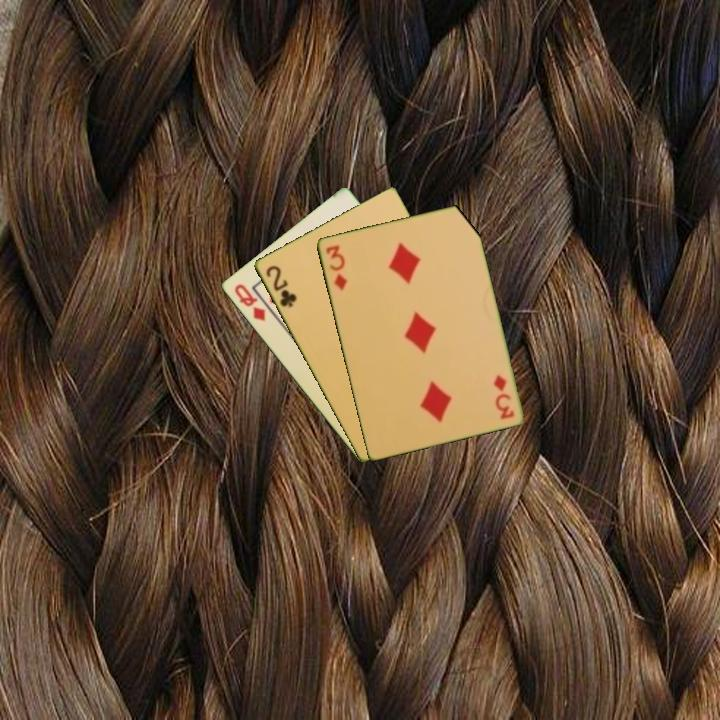2c: (262, 262, 299, 310)
3d: (322, 241, 350, 293), (489, 371, 517, 422)
Qd: (230, 280, 268, 325)
